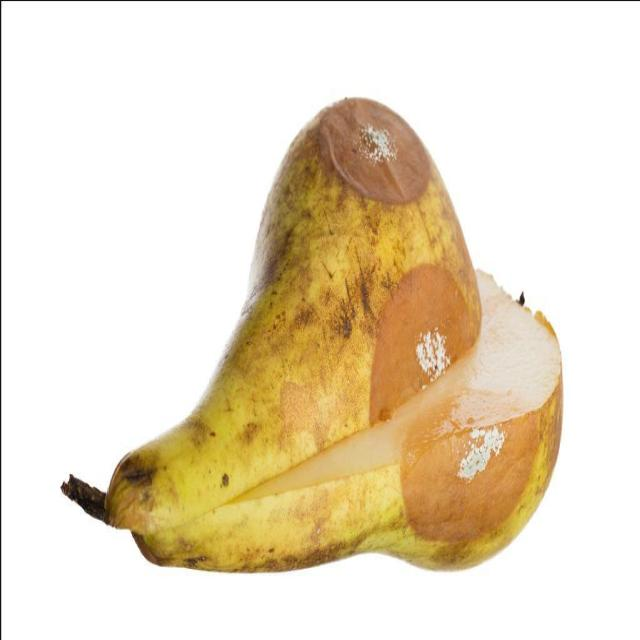organic: (61, 96, 564, 577)
